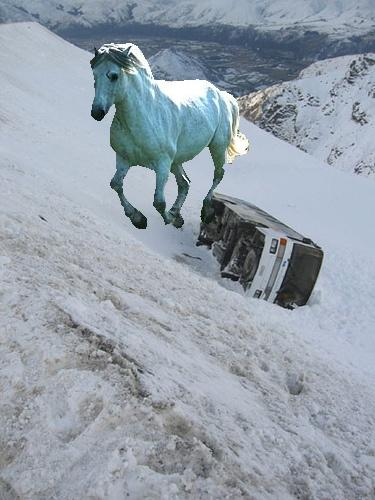tampered: (91, 44, 249, 229)
